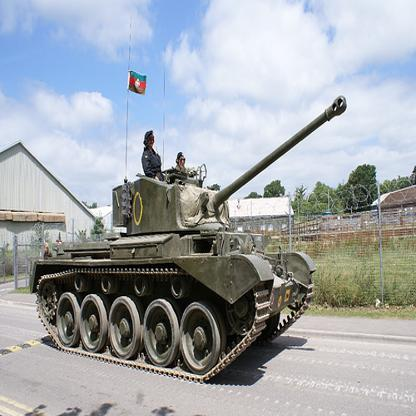Tank: (23, 95, 360, 388)
